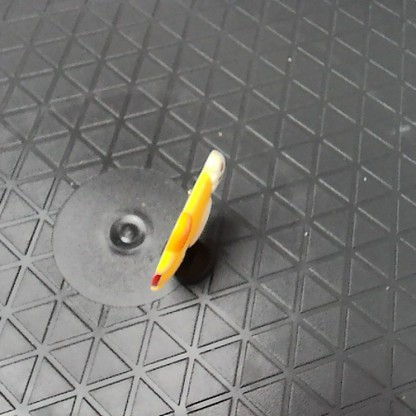dogclip: (147, 142, 228, 293)
